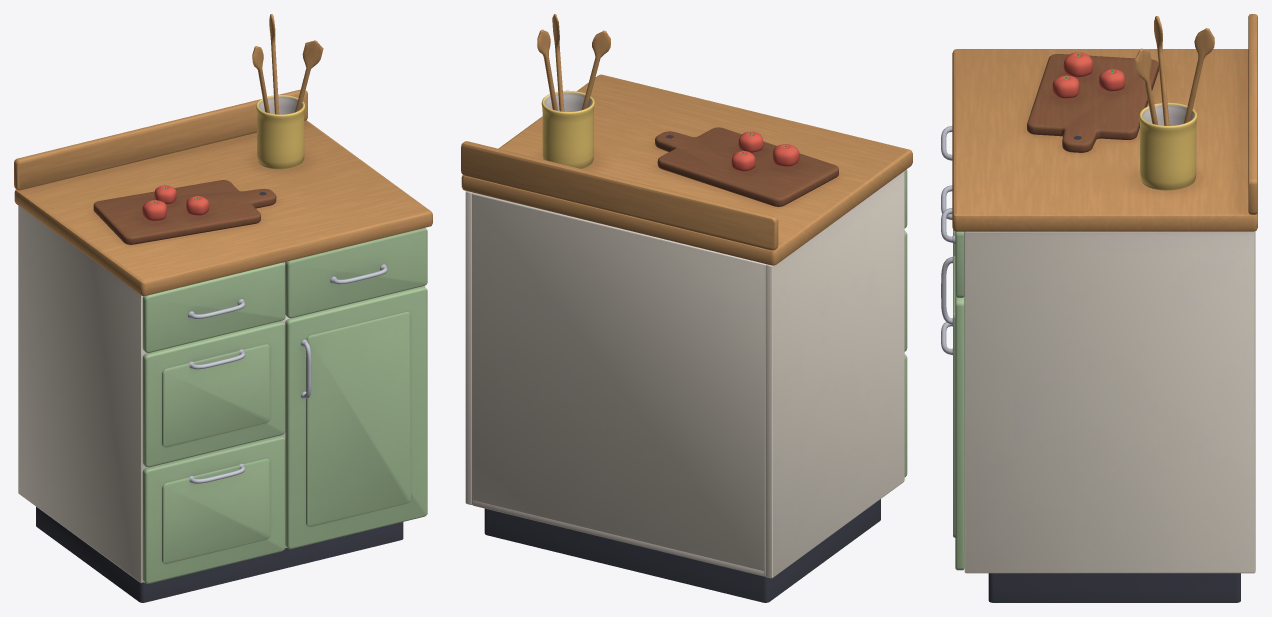
File: kitchen-counter.glb
The picture shows the model from 3 angles, left to right: view 1: azimuth 30°, elevation 25°; view 2: azimuth 150°, elevation 25°; view 3: azimuth 270°, elevation 25°; orthographic projection. The views are drawn at different scales.
Visible parts, largest first — view 1: kitchen-counter_body, kitchen-counter_door, kitchen-counter_drawer; view 2: kitchen-counter_body; view 3: kitchen-counter_body, kitchen-counter_door.
Part boxes in pixels (<box>): kitchen-counter_body: <box>14,14,432,602</box>; kitchen-counter_door: <box>285,286,427,549</box>; kitchen-counter_drawer: <box>142,262,285,352</box>; kitchen-counter_body: <box>461,14,912,602</box>; kitchen-counter_body: <box>941,14,1257,602</box>; kitchen-counter_door: <box>941,255,964,570</box>.
Size of the model in its own units: 0.82 by 1.25 by 0.6535.
Materials: 3 (3 with a texture image).
